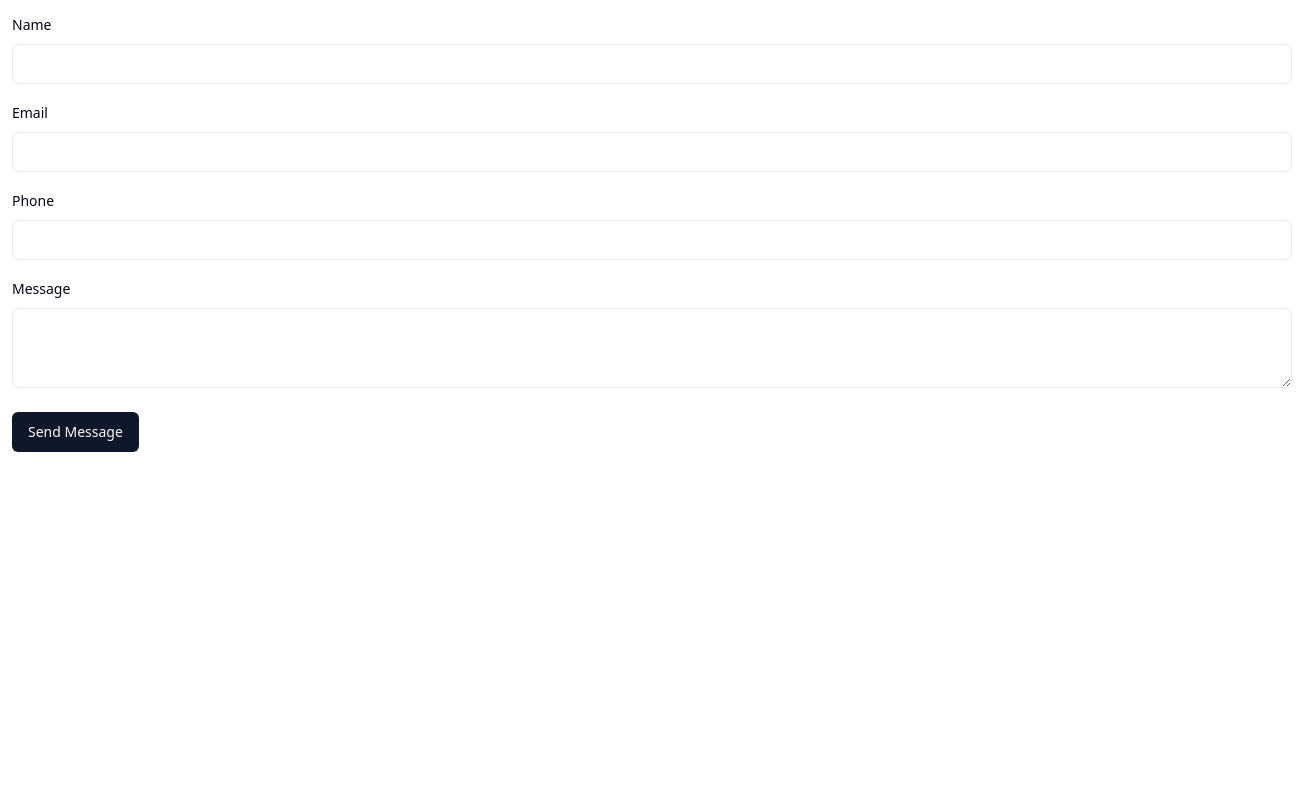
Test: ContactForm › should show validation errors and not submit when the form is empty
Click the button "Send Message" at (75, 432), box [12, 412, 139, 452]
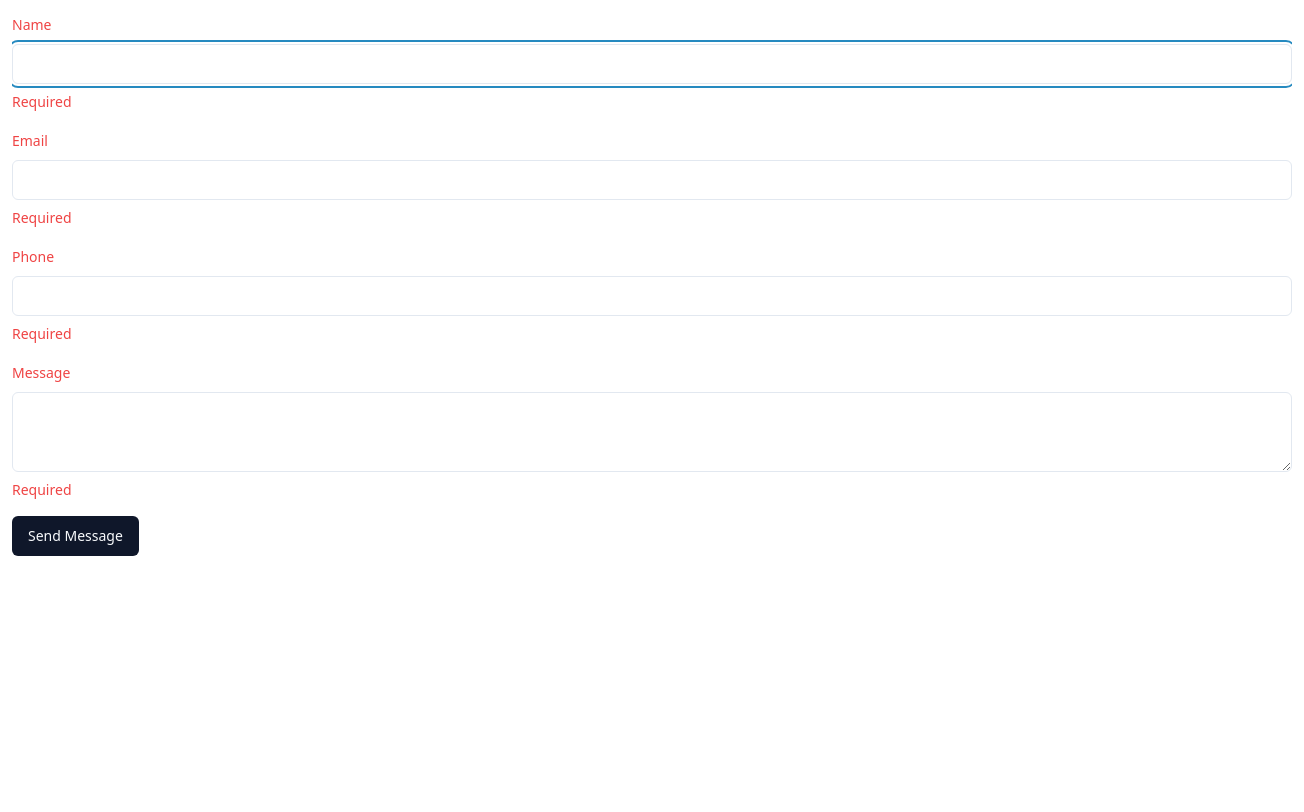
Check: the text "Required" is shown 4 times, box [12, 92, 72, 111]; [12, 208, 72, 227]; [12, 324, 72, 343]; [12, 480, 72, 499]
